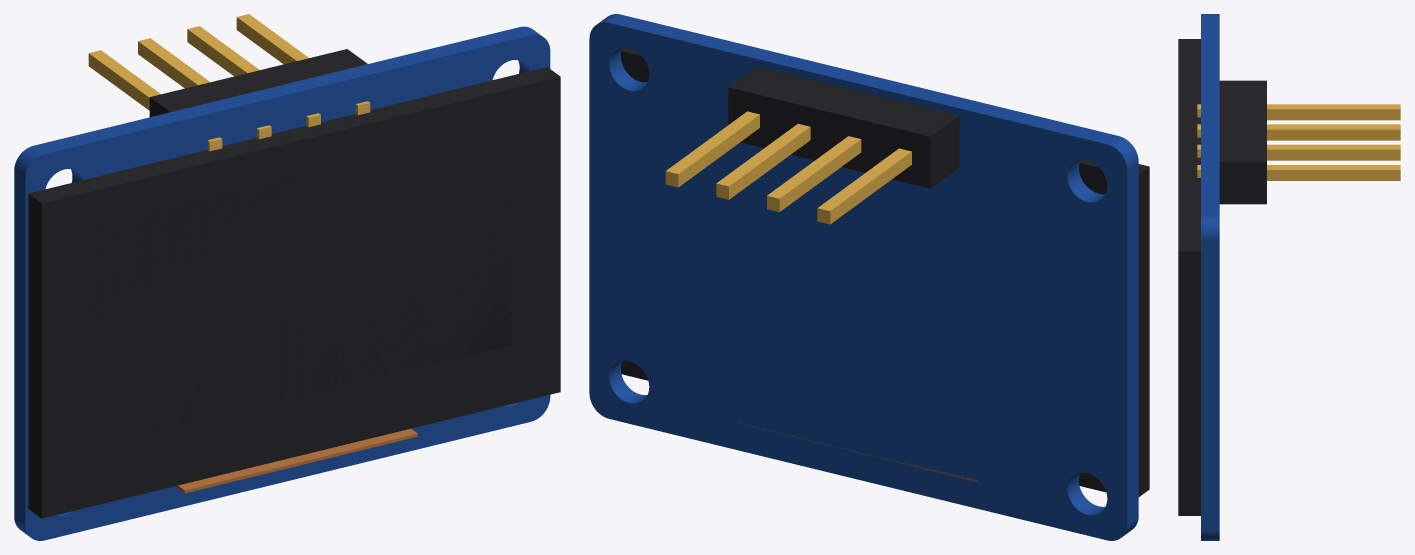
File: screen.glb
The picture shows the model from 3 angles, left to right: view 1: azimuth 30°, elevation 25°; view 2: azimuth 150°, elevation 25°; view 3: azimuth 270°, elevation 25°; orthographic projection. The views are drawn at different scales.
Visible parts, largest first — view 1: screen; view 2: screen; view 3: screen.
Boxes of the visible parts, box(x1,y1,x2,y2) form: screen: box(14, 14, 560, 540); screen: box(589, 14, 1149, 540); screen: box(1178, 14, 1400, 540).
Size of the model in its own units: 27 by 19 by 11.8.
